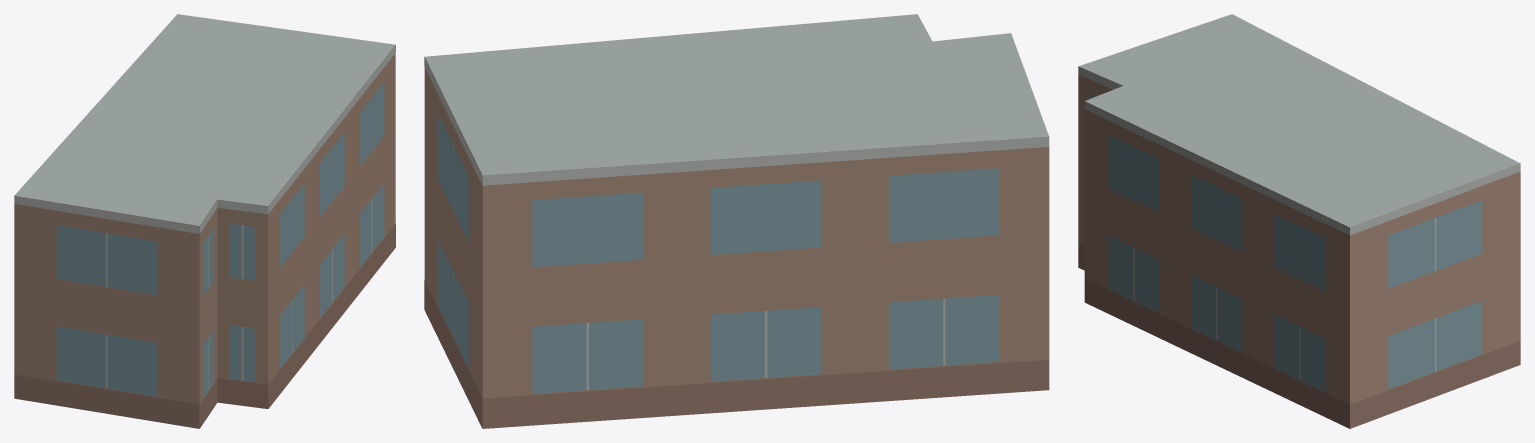
Rendered from survey-upis-32771635.glb.
The picture shows the model from 3 angles, left to right: view 1: azimuth 30°, elevation 25°; view 2: azimuth 150°, elevation 25°; view 3: azimuth 270°, elevation 25°; orthographic projection. The views are drawn at different scales.
Parts seen in each view (by area): view 1: survey-upis-32771635.tmp; view 2: survey-upis-32771635.tmp; view 3: survey-upis-32771635.tmp.
Part boxes in pixels (x1,y1,x2,y2): survey-upis-32771635.tmp: (14, 14, 395, 428); survey-upis-32771635.tmp: (424, 14, 1049, 428); survey-upis-32771635.tmp: (1078, 14, 1520, 428).
Bounding box in the file's own units: 13.88 × 6.1 × 12.15.
